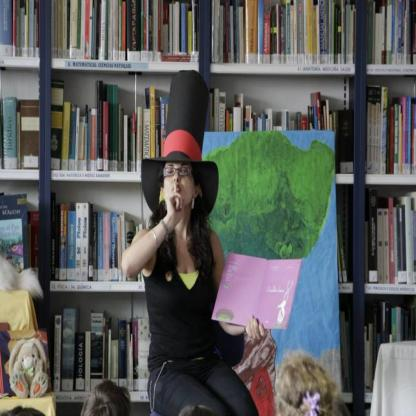book: (34, 53, 153, 395), (208, 87, 354, 175), (210, 0, 356, 64), (50, 0, 200, 59), (365, 189, 415, 283), (365, 302, 415, 392), (366, 82, 416, 172), (366, 0, 416, 65), (0, 190, 39, 272), (0, 97, 42, 172), (0, 0, 40, 58), (340, 308, 355, 390), (338, 210, 351, 283), (158, 95, 170, 156)
